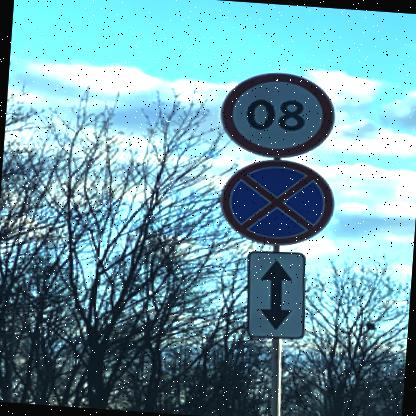speedlimit: (220, 68, 340, 160)
